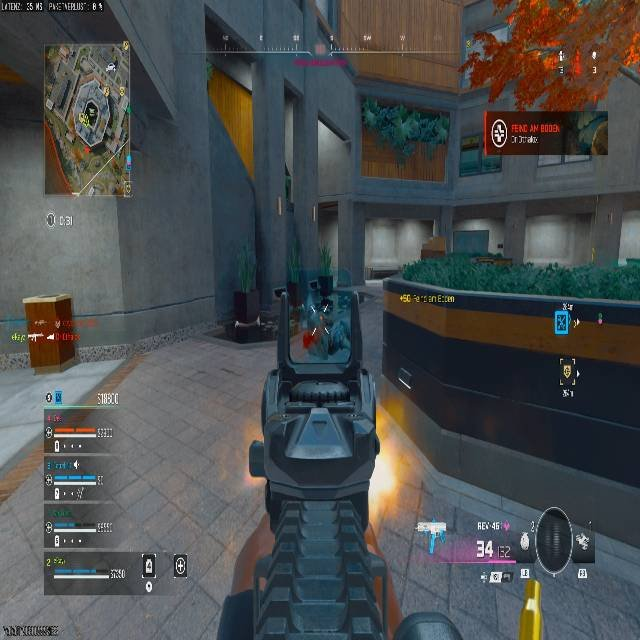head: (313, 273, 331, 293)
player: (303, 273, 347, 357)
